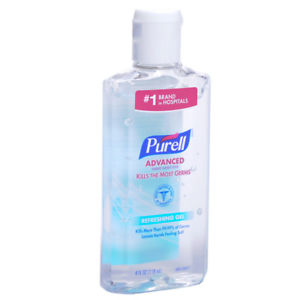Sanitizer: (98, 4, 211, 296)
